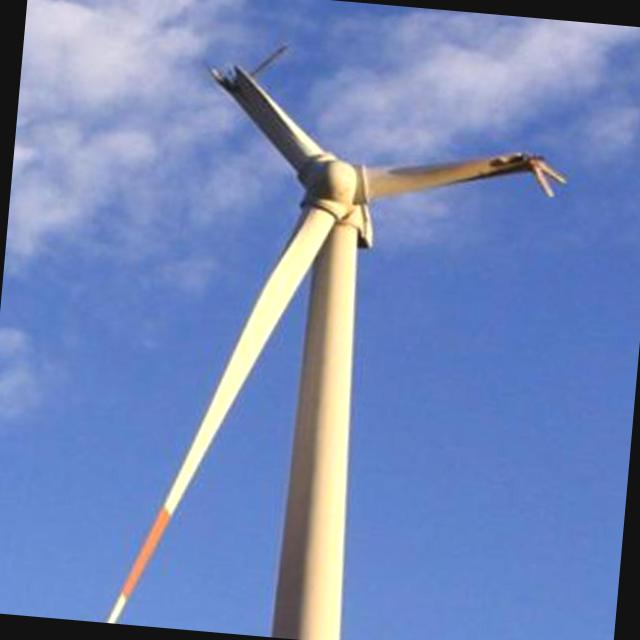crack: (195, 25, 292, 120), (466, 138, 586, 213)
